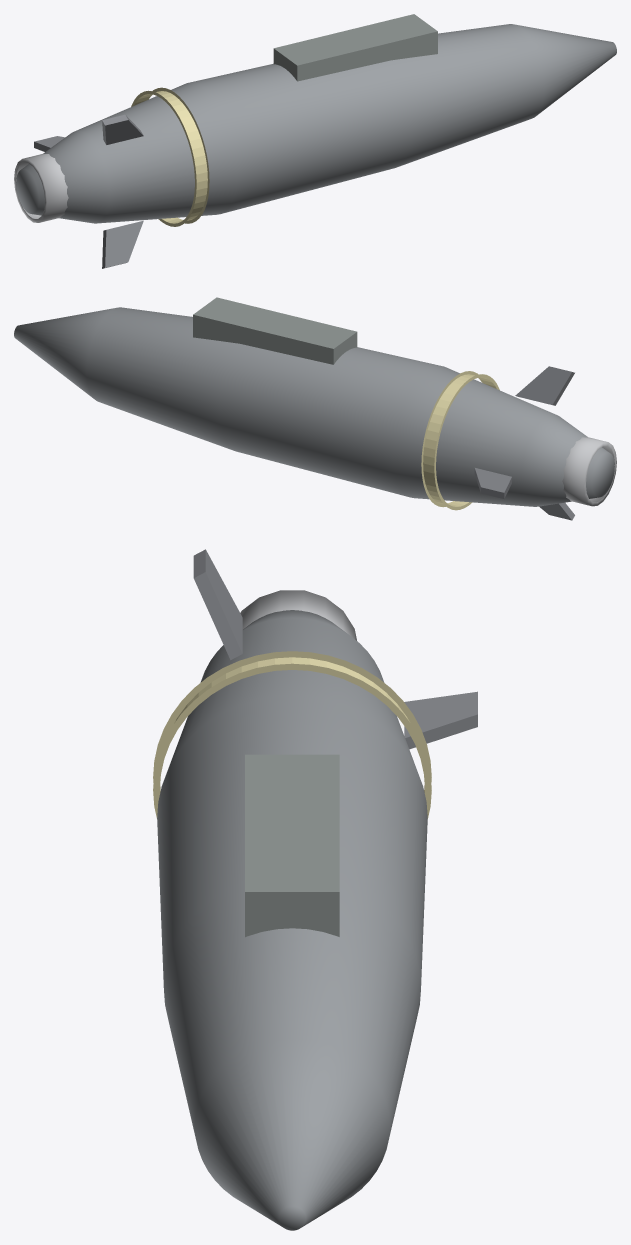
The model's file is RU_SPECIAL_SDV_Sirena_LOD0.fbx.
3 renders of one model, top to bottom at view 1: azimuth 30°, elevation 25°; view 2: azimuth 150°, elevation 25°; view 3: azimuth 270°, elevation 25°, orthographic. The views are drawn at different scales.
Parts seen in each view (by area): view 1: WPN_RU_SPECIAL_SDV_Sirena_LOD0_Body, WPN_RU_SPECIAL_SDV_Sirena_LOD0_Shell, WPN_RU_SPECIAL_SDV_Sirena_LOD0_Marking, WPN_RU_SPECIAL_SDV_Sirena_LOD0_Fins, WPN_RU_SPECIAL_SDV_Sirena_LOD0_Propulsor; view 2: WPN_RU_SPECIAL_SDV_Sirena_LOD0_Body, WPN_RU_SPECIAL_SDV_Sirena_LOD0_Shell, WPN_RU_SPECIAL_SDV_Sirena_LOD0_Marking, WPN_RU_SPECIAL_SDV_Sirena_LOD0_Fins, WPN_RU_SPECIAL_SDV_Sirena_LOD0_Propulsor; view 3: WPN_RU_SPECIAL_SDV_Sirena_LOD0_Body, WPN_RU_SPECIAL_SDV_Sirena_LOD0_Shell, WPN_RU_SPECIAL_SDV_Sirena_LOD0_Marking, WPN_RU_SPECIAL_SDV_Sirena_LOD0_Fins, WPN_RU_SPECIAL_SDV_Sirena_LOD0_Propulsor.
Part boxes in pixels (bbox=[...]): WPN_RU_SPECIAL_SDV_Sirena_LOD0_Body: bbox=[16, 24, 616, 223]; WPN_RU_SPECIAL_SDV_Sirena_LOD0_Shell: bbox=[273, 14, 437, 81]; WPN_RU_SPECIAL_SDV_Sirena_LOD0_Marking: bbox=[131, 87, 209, 226]; WPN_RU_SPECIAL_SDV_Sirena_LOD0_Fins: bbox=[34, 114, 143, 268]; WPN_RU_SPECIAL_SDV_Sirena_LOD0_Propulsor: bbox=[14, 153, 68, 222]; WPN_RU_SPECIAL_SDV_Sirena_LOD0_Body: bbox=[14, 307, 614, 506]; WPN_RU_SPECIAL_SDV_Sirena_LOD0_Shell: bbox=[193, 297, 357, 364]; WPN_RU_SPECIAL_SDV_Sirena_LOD0_Marking: bbox=[421, 371, 499, 510]; WPN_RU_SPECIAL_SDV_Sirena_LOD0_Fins: bbox=[474, 366, 574, 520]; WPN_RU_SPECIAL_SDV_Sirena_LOD0_Propulsor: bbox=[562, 437, 616, 506]; WPN_RU_SPECIAL_SDV_Sirena_LOD0_Body: bbox=[157, 610, 427, 1230]; WPN_RU_SPECIAL_SDV_Sirena_LOD0_Shell: bbox=[245, 754, 339, 937]; WPN_RU_SPECIAL_SDV_Sirena_LOD0_Marking: bbox=[153, 651, 431, 819]; WPN_RU_SPECIAL_SDV_Sirena_LOD0_Fins: bbox=[193, 549, 477, 749]; WPN_RU_SPECIAL_SDV_Sirena_LOD0_Propulsor: bbox=[240, 590, 356, 640].
Size of the model in its own units: 8 by 1.92 by 1.94.
